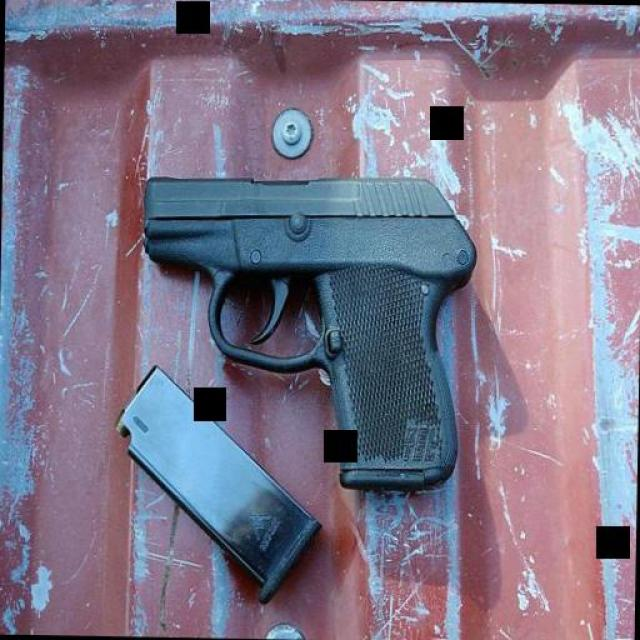gun: (136, 169, 478, 499)
